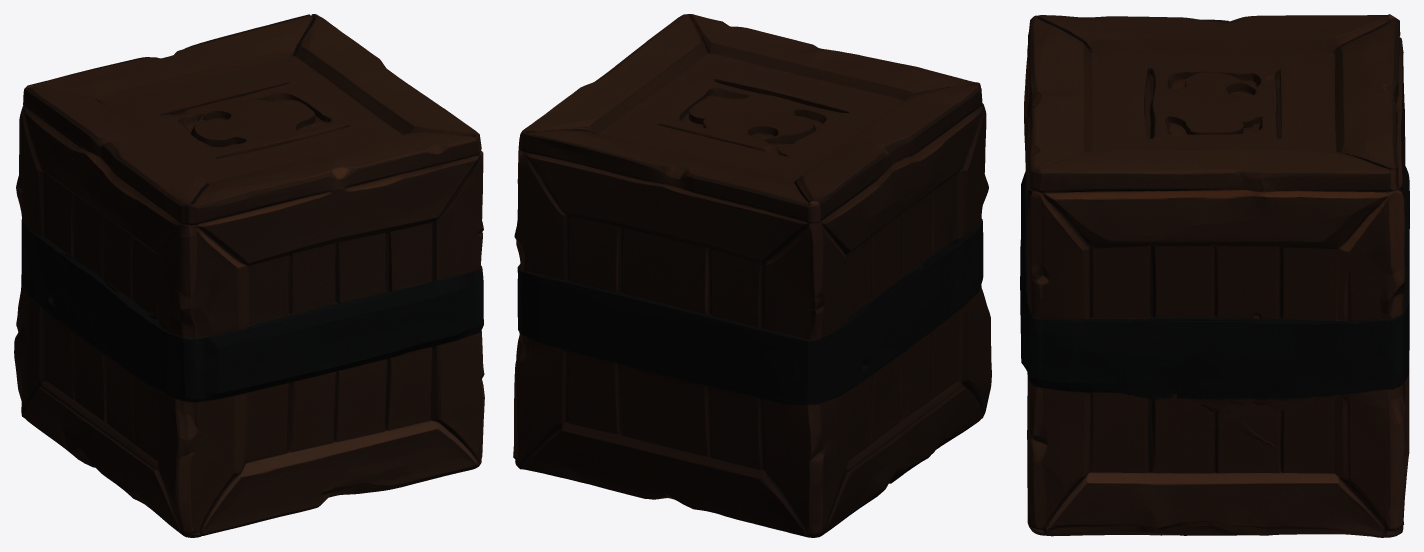
The model's file is mystery_crate.glb.
3 renders of one model, left to right at view 1: azimuth 30°, elevation 25°; view 2: azimuth 150°, elevation 25°; view 3: azimuth 270°, elevation 25°, orthographic. The views are drawn at different scales.
Visible parts, largest first — view 1: world; view 2: world; view 3: world.
Part boxes in pixels (bbox=[...]): world: bbox=[14, 14, 484, 537]; world: bbox=[513, 14, 991, 537]; world: bbox=[1020, 14, 1409, 537].
Bounding box in the file's own units: 0.9828 × 0.9888 × 0.9453.
1 material, 1 textured.
